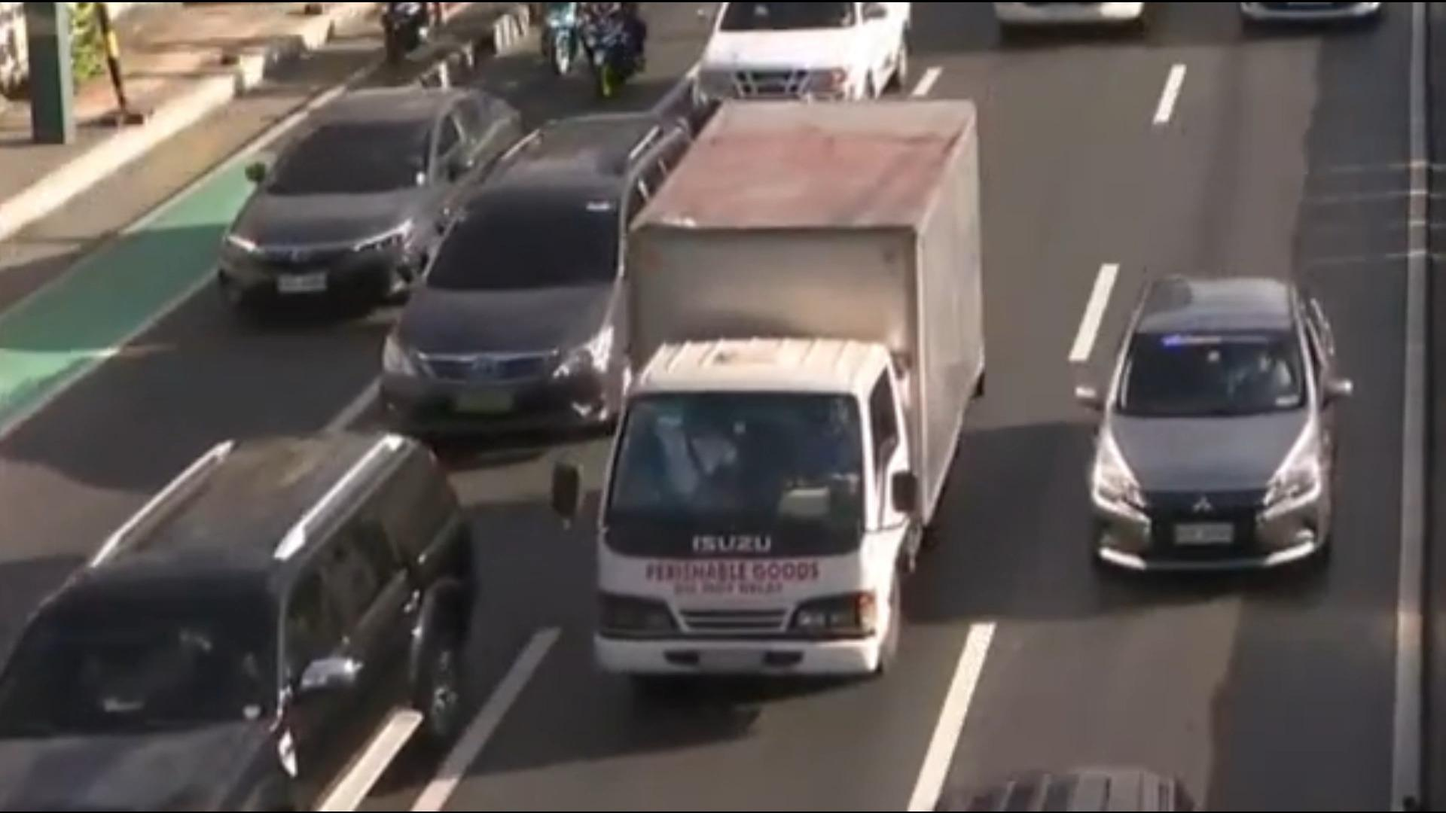SUV: (0, 420, 522, 813), (326, 111, 729, 458), (694, 0, 921, 113)
Sedan: (1054, 266, 1373, 613), (195, 62, 550, 324), (584, 0, 648, 107)
